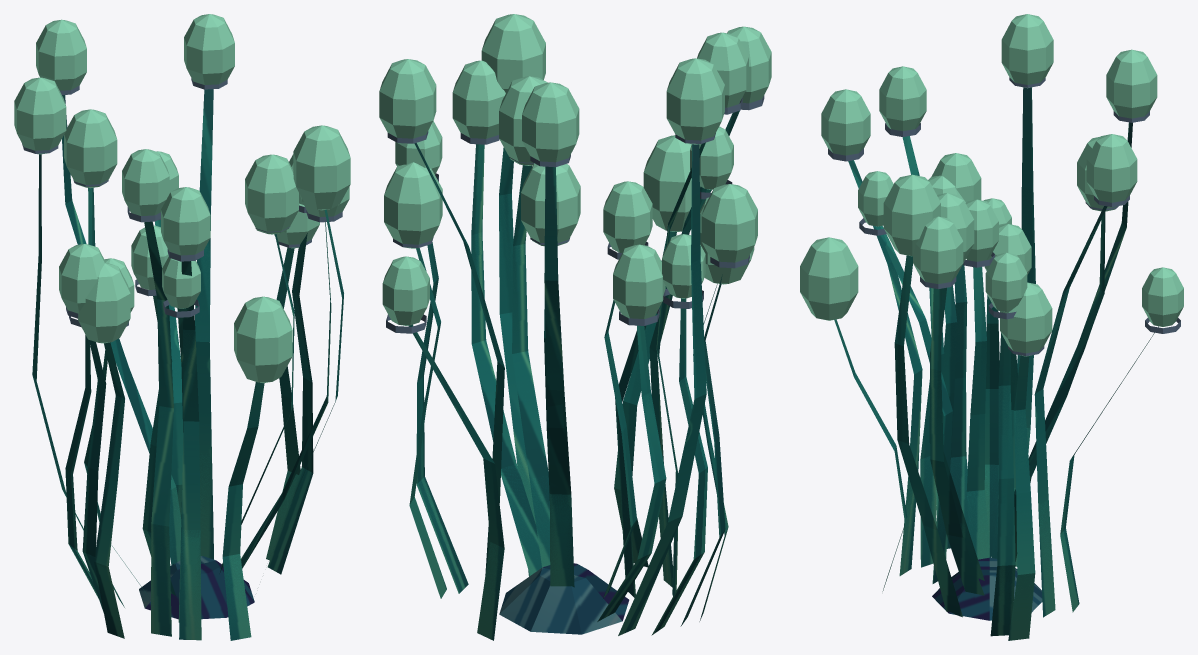
Rendered from fol_reed_glow_a.glb.
3 renders of one model, left to right at view 1: azimuth 30°, elevation 25°; view 2: azimuth 150°, elevation 25°; view 3: azimuth 270°, elevation 25°, orthographic. The views are drawn at different scales.
Parts seen in each view (by area): view 1: lod0__reed_glow_stems, lod0__reed_glow_pods, lod1__reed_glow_pods, lod1__reed_glow_stems, lod2__reed_glow_pods, lod2__reed_glow_stems; view 2: lod0__reed_glow_stems, lod0__reed_glow_pods, lod1__reed_glow_pods, lod2__reed_glow_pods, lod2__reed_glow_stems, lod1__reed_glow_stems; view 3: lod0__reed_glow_stems, lod0__reed_glow_pods, lod1__reed_glow_stems, lod1__reed_glow_pods, lod2__reed_glow_pods, lod2__reed_glow_stems.
Part boxes in pixels (x1,y1,x2,y2): lod0__reed_glow_stems: (62, 89, 331, 640); lod0__reed_glow_pods: (36, 14, 349, 343); lod1__reed_glow_pods: (64, 109, 350, 383); lod1__reed_glow_stems: (88, 188, 343, 640); lod2__reed_glow_pods: (14, 77, 178, 326); lod2__reed_glow_stems: (32, 154, 183, 612); lod0__reed_glow_stems: (414, 110, 739, 635); lod0__reed_glow_pods: (379, 26, 771, 308); lod1__reed_glow_pods: (384, 14, 748, 259); lod2__reed_glow_pods: (382, 58, 757, 333); lod2__reed_glow_stems: (408, 144, 725, 640); lod1__reed_glow_stems: (409, 142, 705, 598); lod0__reed_glow_stems: (848, 122, 1132, 636); lod0__reed_glow_pods: (821, 49, 1157, 319); lod1__reed_glow_stems: (834, 136, 1105, 640); lod1__reed_glow_pods: (800, 66, 1118, 356); lod2__reed_glow_pods: (931, 14, 1183, 333); lod2__reed_glow_stems: (950, 87, 1158, 612).
Size of the model in its own units: 0.9219 by 1.58 by 1.06.
2 materials, 1 textured.
